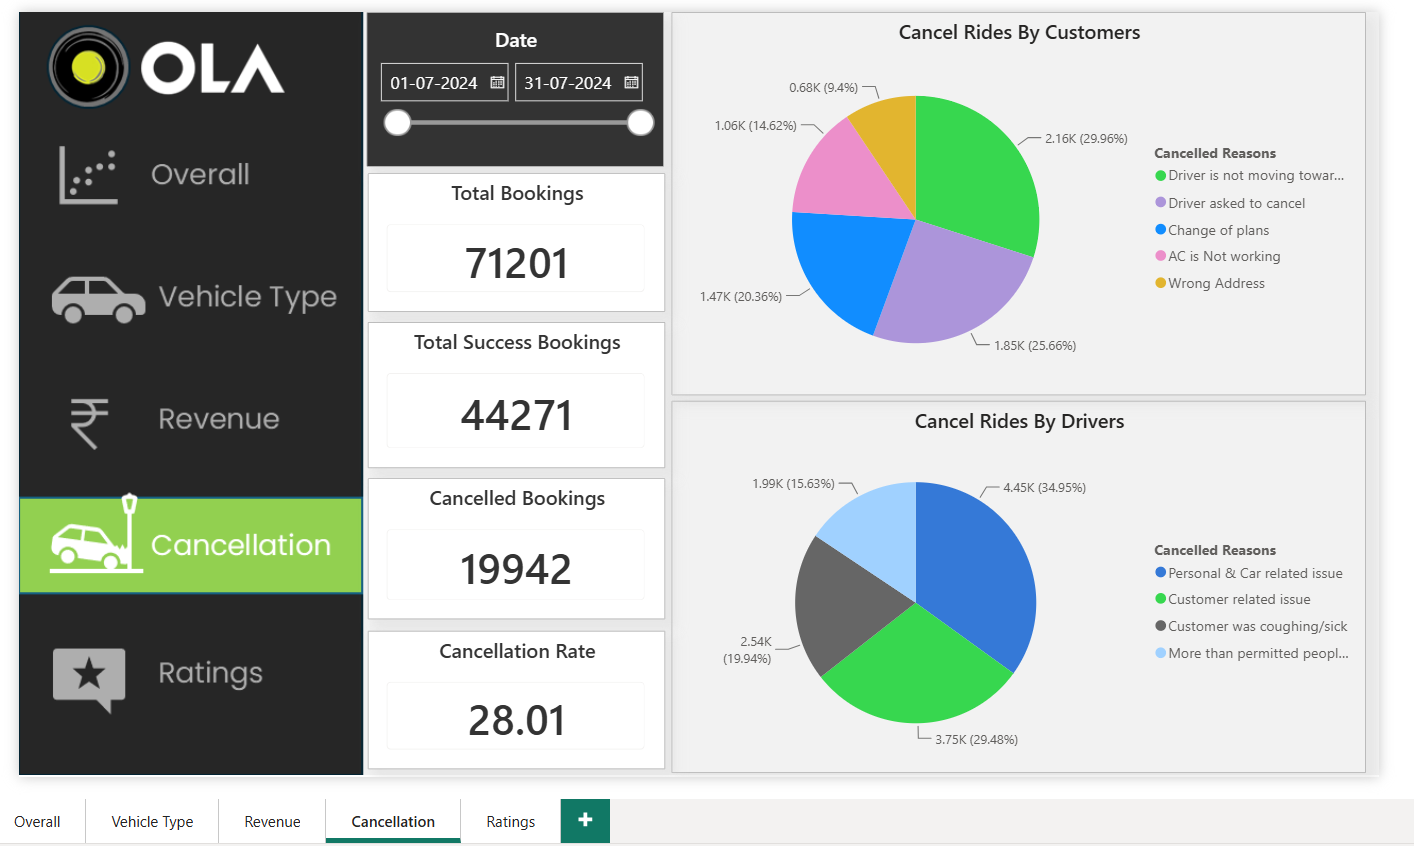

What the dashboard file says about the page in this screenshot:
{"tool":"powerbi","page":{"name":"Cancellation","canvas":[1280,720],"ordinal":3},"visuals":[{"type":"actionButton","box":[0,219.6,324.5,94.1],"z":0},{"type":"actionButton","box":[0,335.4,324.5,94.1],"z":1000},{"type":"actionButton","box":[0,576.7,324.5,94.1],"z":2000},{"type":"actionButton","box":[1.2,106.2,324.5,94.1],"z":3000},{"type":"pieChart","title":"Cancel Rides By Customers","fields":{"Category":["Ola_Data.Canceled_Rides_by_Customer"],"Y":["CountNonNull(Ola_Data.Canceled_Rides_by_Customer)"]},"box":[614,0,653.5,360.5],"z":4000},{"type":"pieChart","title":"Cancel Rides By Drivers","fields":{"Category":["Ola_Data.Canceled_Rides_by_Driver"],"Y":["CountNonNull(Ola_Data.Canceled_Rides_by_Driver)"]},"box":[614,366.3,653.5,350],"z":5000},{"type":"slicer","title":"Date","fields":{"Values":["Ola_Data.Date"]},"box":[326.6,0,279.9,145.5],"z":6000},{"type":"cardVisual","title":"Total Bookings","fields":{"Data":["CountNonNull(Ola_Data.Booking_ID)"]},"box":[328,152.3,279.9,130.4],"z":7000},{"type":"cardVisual","title":"Total Success Bookings","fields":{"Data":["CountNonNull(Ola_Data.Booking_ID)"]},"box":[328,292.3,279.9,137.2],"z":8000},{"type":"cardVisual","title":"Cancelled Bookings","fields":{"Data":["CountNonNull(Ola_Data.Booking_ID)"]},"box":[328,439.1,279.9,133.1],"z":9000},{"type":"cardVisual","title":"Cancellation Rate","fields":{"Data":["Ola_Data.CanceledPercentage"]},"box":[328,581.8,279.9,130.4],"z":9001}]}

Visuals, with their boxes on the page's 1280x720 design canvas (x1, y1, x2, y2). These are canvas units, not pixel positions in the 1414x846 screenshot, which may show the page scaled, cropped or inside an application window:
actionButton: select_region(0, 220, 324, 314)
actionButton: select_region(0, 335, 324, 430)
actionButton: select_region(0, 577, 324, 671)
actionButton: select_region(1, 106, 326, 200)
"Cancel Rides By Customers" pieChart: select_region(614, 0, 1268, 360)
"Cancel Rides By Drivers" pieChart: select_region(614, 366, 1268, 716)
"Date" slicer: select_region(327, 0, 606, 146)
"Total Bookings" cardVisual: select_region(328, 152, 608, 283)
"Total Success Bookings" cardVisual: select_region(328, 292, 608, 430)
"Cancelled Bookings" cardVisual: select_region(328, 439, 608, 572)
"Cancellation Rate" cardVisual: select_region(328, 582, 608, 712)
